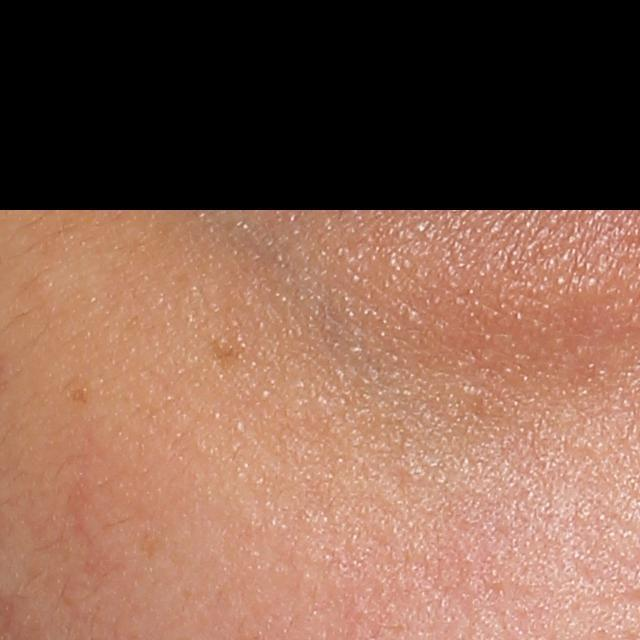melasma: (208, 334, 244, 364), (66, 385, 92, 407)
